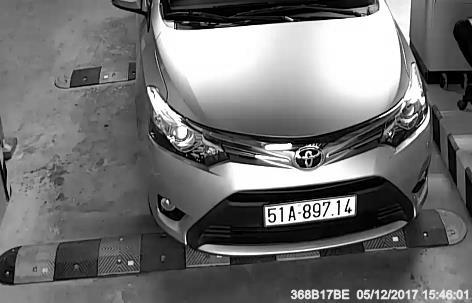License-plate: (263, 193, 363, 232)
